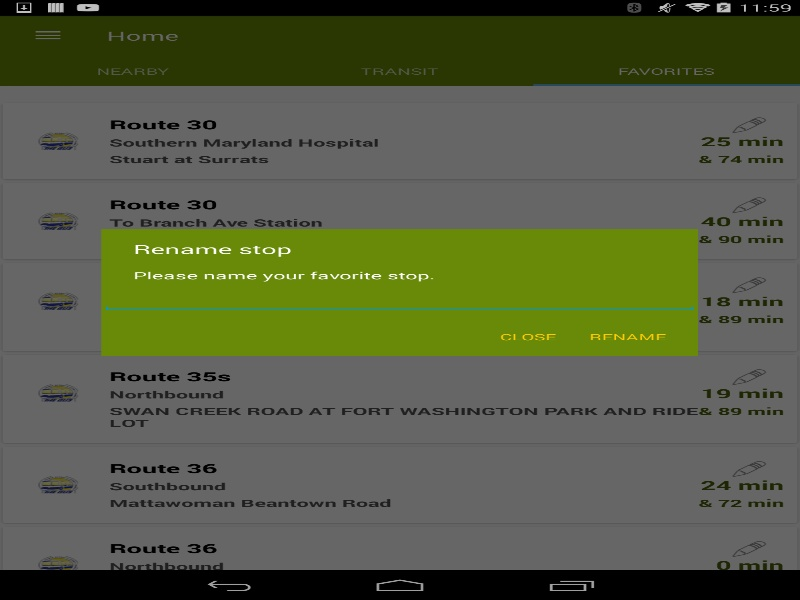Button: (572, 320, 682, 353), (484, 320, 572, 353)
Input: (101, 287, 698, 312)
